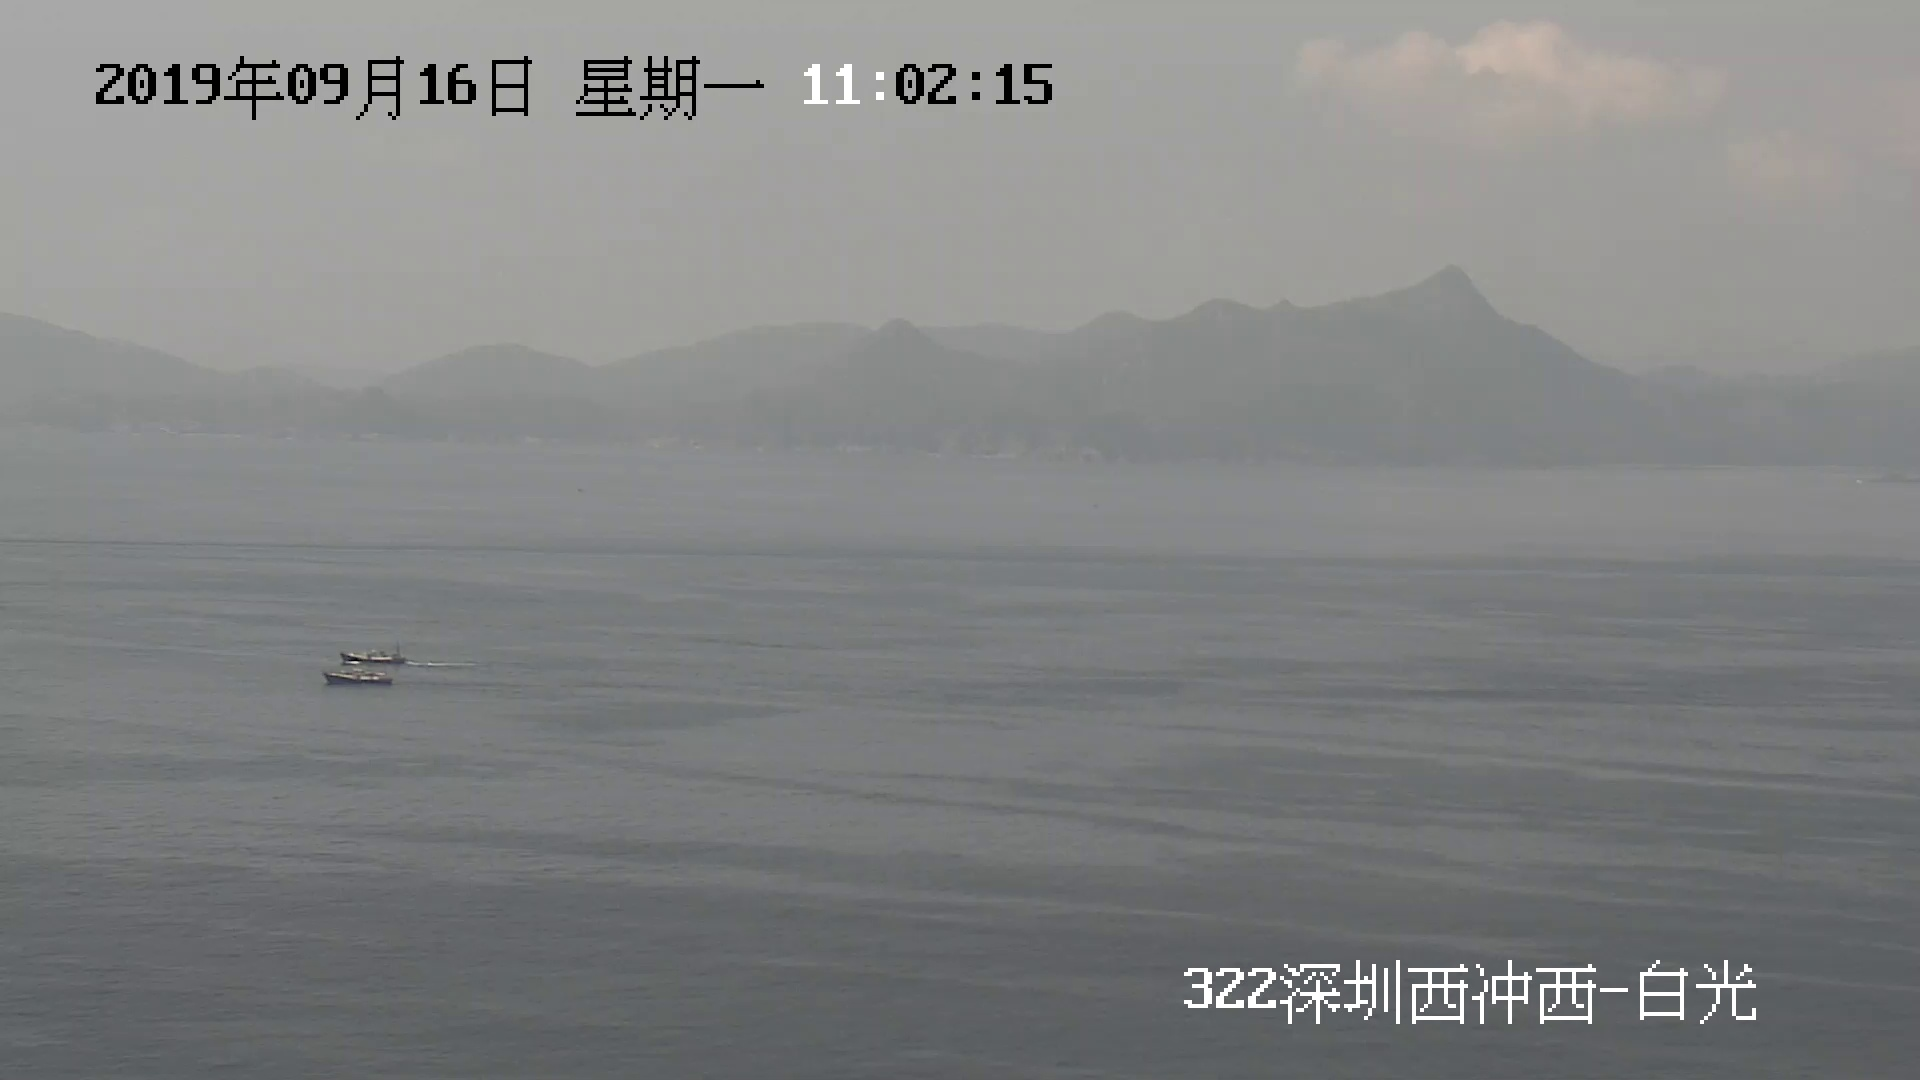ship: (322, 657, 400, 684), (339, 645, 404, 669)
